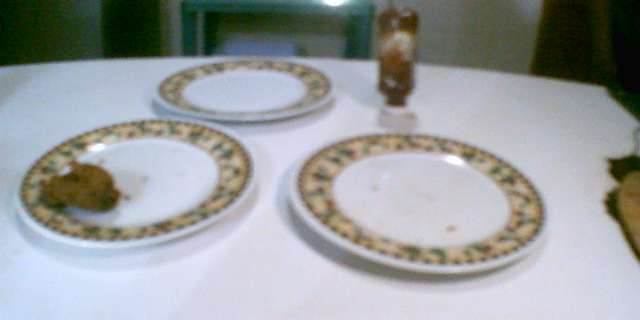chicken: (35, 157, 124, 217)
empty_plate: (283, 125, 552, 285), (148, 54, 335, 123)
ketchup_bottle: (368, 4, 427, 122)
